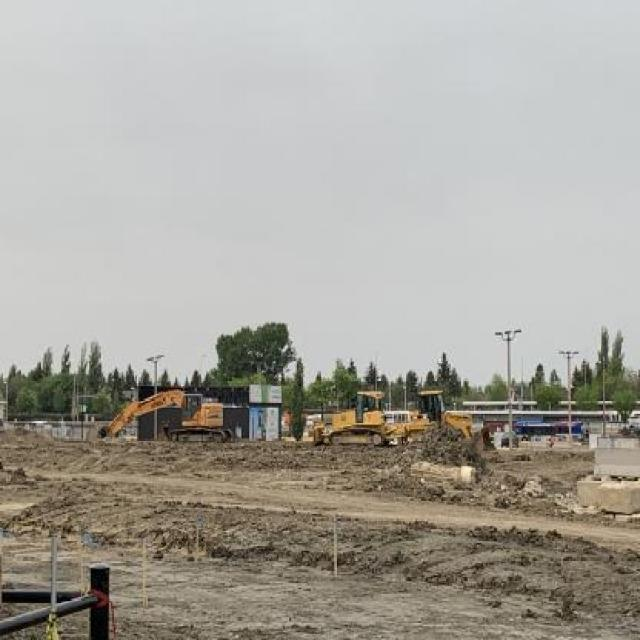Excavator: (84, 385, 236, 444)
